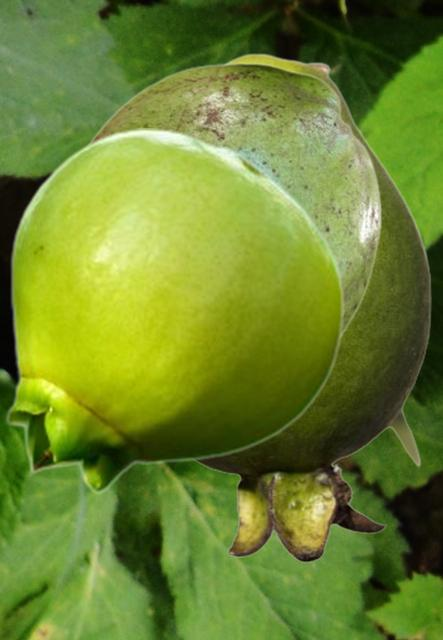guava: (5, 128, 344, 493), (193, 52, 430, 562), (88, 62, 381, 335)
